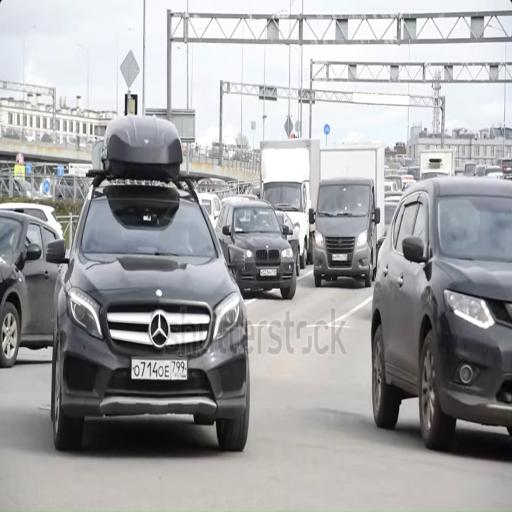License plates: (131, 359, 187, 380), (260, 269, 277, 276), (332, 254, 347, 261), (504, 167, 511, 172)
